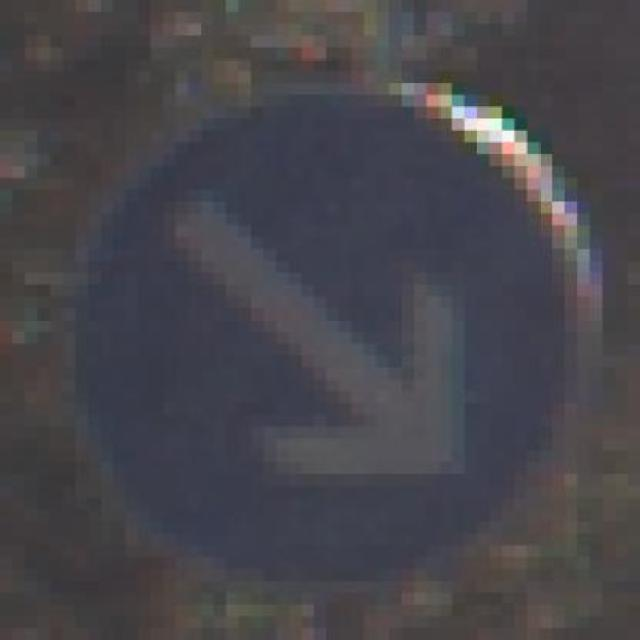Keep-Right: (38, 59, 614, 593)
